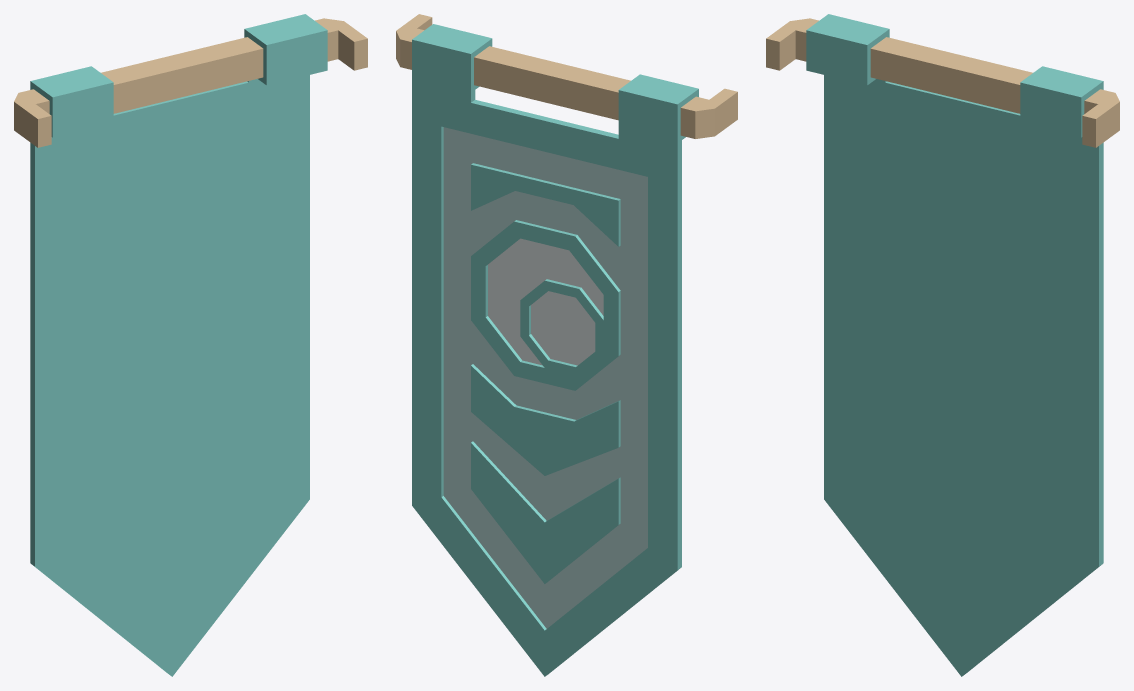
The model's file is Prop_Flag_Eclipse.glb.
The picture shows the model from 3 angles, left to right: view 1: azimuth 30°, elevation 25°; view 2: azimuth 150°, elevation 25°; view 3: azimuth 330°, elevation 25°; orthographic projection. The views are drawn at different scales.
Visible parts, largest first — view 1: Prop_Flag_Eclipse; view 2: Prop_Flag_Eclipse; view 3: Prop_Flag_Eclipse.
Part boxes in pixels (bbox=[...]): Prop_Flag_Eclipse: bbox=[14, 14, 367, 676]; Prop_Flag_Eclipse: bbox=[396, 14, 737, 676]; Prop_Flag_Eclipse: bbox=[766, 14, 1119, 676].
Bounding box in the file's own units: 0.54 × 0.979 × 0.099.
